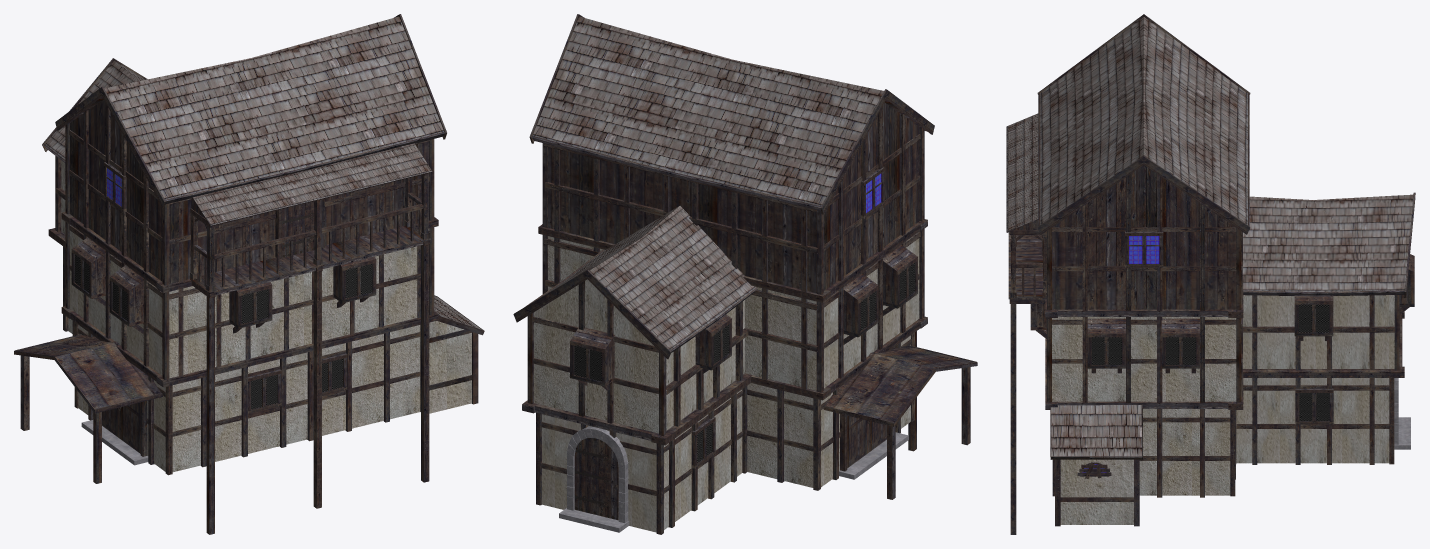
Rendered from thouse23.dae.
3 renders of one model, left to right at view 1: azimuth 30°, elevation 25°; view 2: azimuth 150°, elevation 25°; view 3: azimuth 270°, elevation 25°, orthographic. The views are drawn at different scales.
Visible parts, largest first — view 1: House2_Roof, House2_Level1, House2_Level2, House2_Level3, Balcony1Roof, House2_Level3_Beams, House2_Level1_Beams, House2_Level2_Beams, Balcony1, Balcony1Stilts, Roof1Outer, BuildingExtensions4 (+22 smaller); view 2: House2_Roof, House2_Level3, House5_Roof, House5_Level2, House2_Level3_Beams, House2_Level2, House5_Level1, House2_Level1, House2_Level2_Beams, House5_Level2_Beams, Roof1Outer, House5_Level1_Beams (+20 smaller); view 3: House2_Roof, House2_Level3, House5_Roof, House2_Level2, House5_Level1, House5_Level2, House2_Level1, House2_Level3_Beams, BuildingExtensions4Roof, BuildingExtensions4, House2_Level2_Beams, House2_Roof_Frame (+24 smaller).
Boxes of the visible parts, x1,y1,x2,y2 form: House2_Roof: [104, 16, 443, 199]; House2_Level1: [78, 325, 420, 472]; House2_Level2: [70, 225, 429, 378]; House2_Level3: [70, 100, 429, 283]; Balcony1Roof: [193, 143, 432, 225]; House2_Level3_Beams: [65, 103, 434, 285]; House2_Level1_Beams: [74, 322, 420, 475]; House2_Level2_Beams: [65, 222, 434, 379]; Balcony1: [190, 172, 431, 293]; Balcony1Stilts: [206, 245, 429, 534]; Roof1Outer: [16, 335, 161, 409]; BuildingExtensions4: [429, 321, 471, 413]; House2_Roof: [533, 16, 883, 205]; House2_Level3: [548, 102, 919, 293]; House5_Roof: [541, 206, 755, 350]; House5_Level2: [534, 279, 744, 433]; House2_Level3_Beams: [542, 106, 924, 294]; House2_Level2: [548, 232, 919, 390]; House5_Level1: [542, 389, 742, 532]; House2_Level1: [747, 335, 910, 487]; House2_Level2_Beams: [542, 229, 924, 392]; House5_Level2_Beams: [527, 281, 748, 435]; Roof1Outer: [825, 346, 974, 422]; House5_Level1_Beams: [536, 386, 747, 534]; House2_Roof: [1040, 17, 1247, 224]; House2_Level3: [1052, 165, 1236, 309]; House5_Roof: [1242, 194, 1413, 291]; House2_Level2: [1052, 317, 1236, 401]; House5_Level1: [1236, 378, 1389, 463]; House5_Level2: [1242, 295, 1394, 368]; House2_Level1: [1139, 409, 1230, 495]; House2_Level3_Beams: [1047, 174, 1242, 310]; BuildingExtensions4Roof: [1051, 405, 1141, 457]; BuildingExtensions4: [1060, 459, 1133, 524]; House2_Level2_Beams: [1047, 317, 1242, 402]; House2_Roof_Frame: [1037, 14, 1250, 234].
Bounding box in the file's own units: 11.21 × 10.65 × 11.42.
32 materials, 32 textured.
